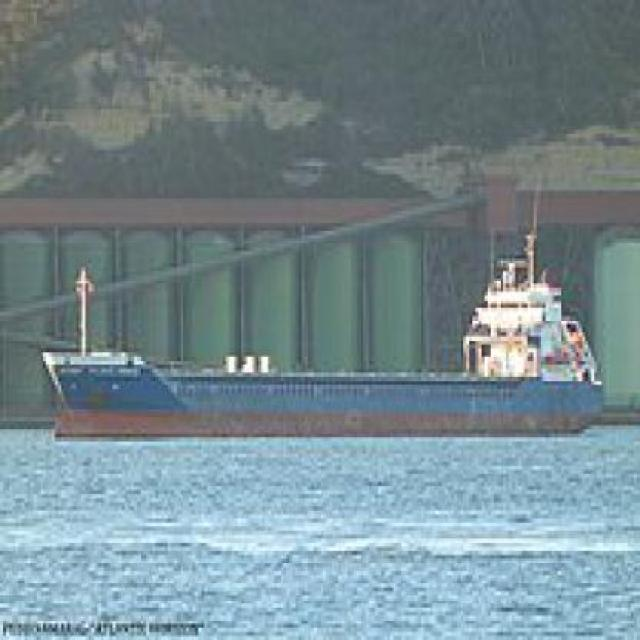container: (25, 249, 614, 450)
